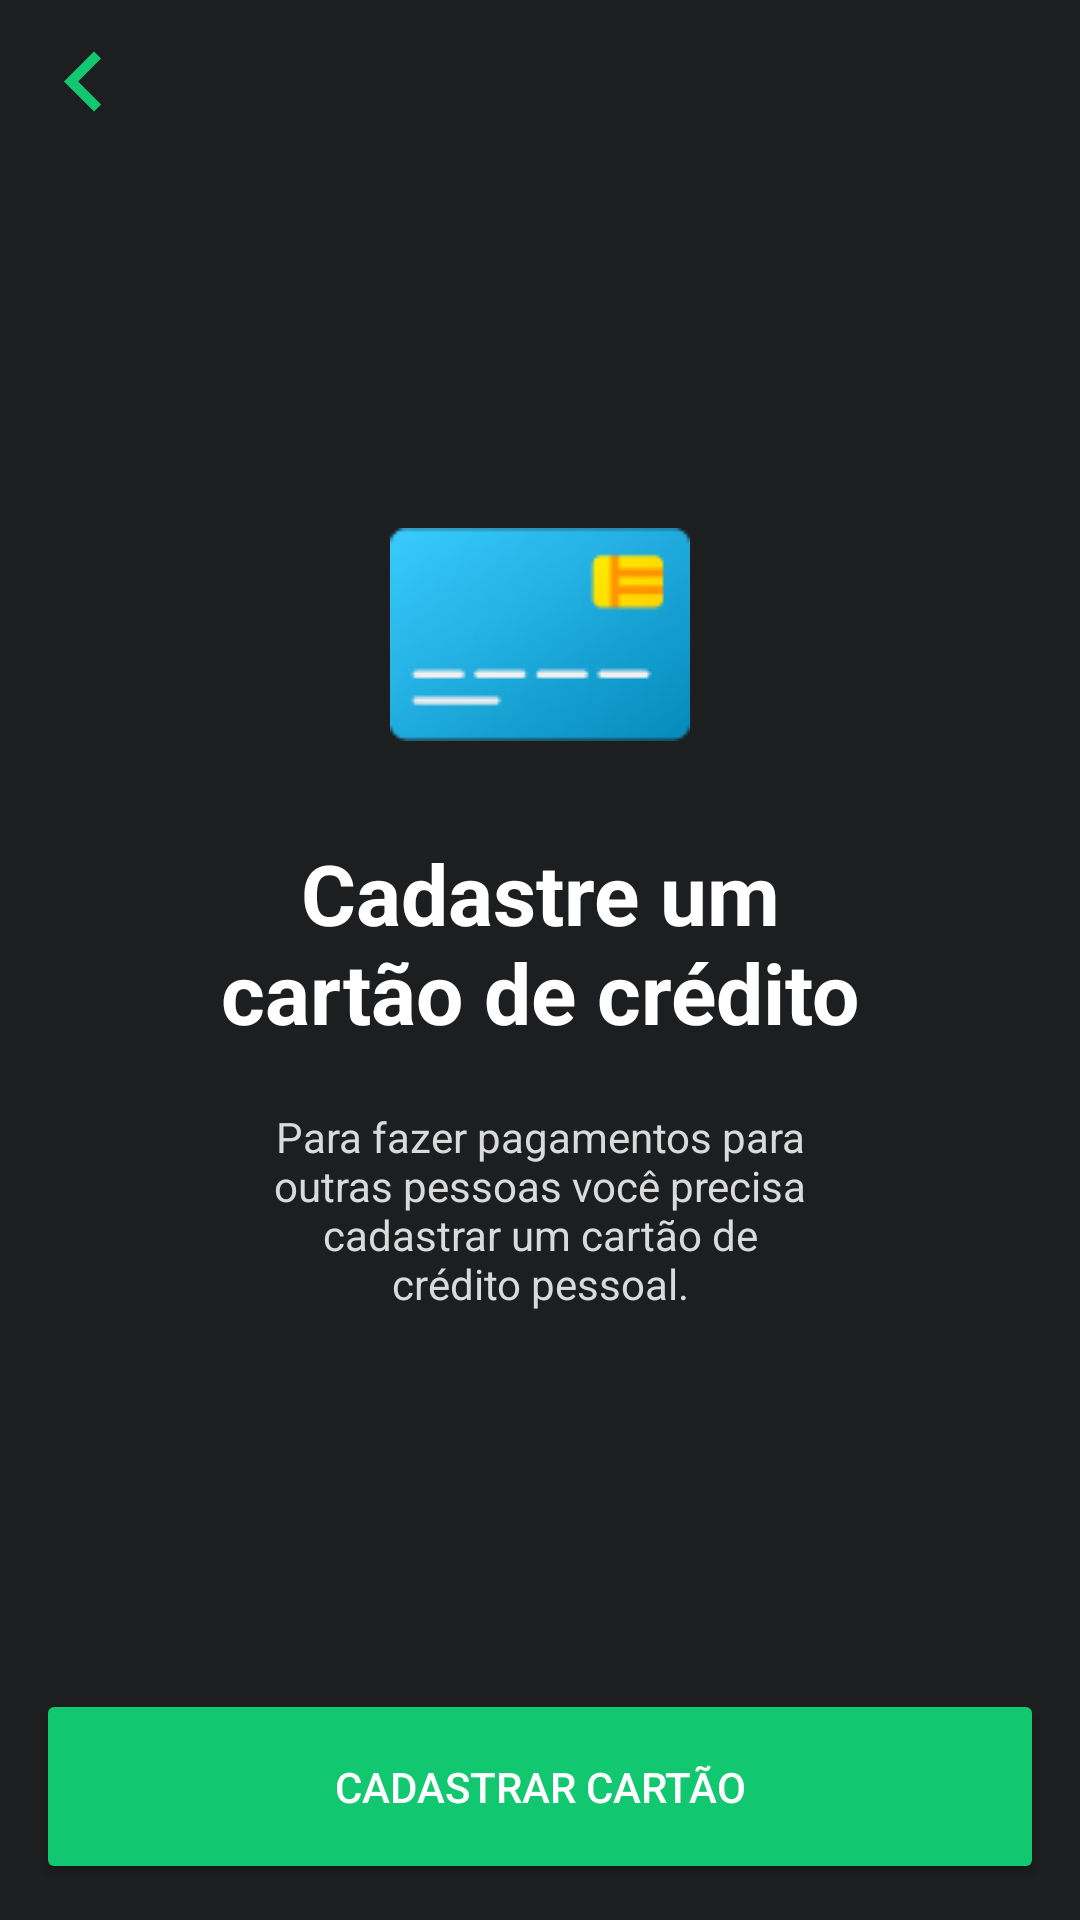

Named icons in this screenshot (1080x1920) and their bounding boxes, [x1,y1,x2,y2]:
credit card: [390,528,690,741]
